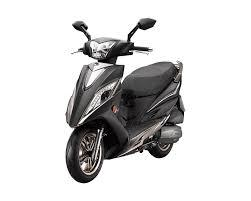motorcycle: (57, 17, 188, 183)
